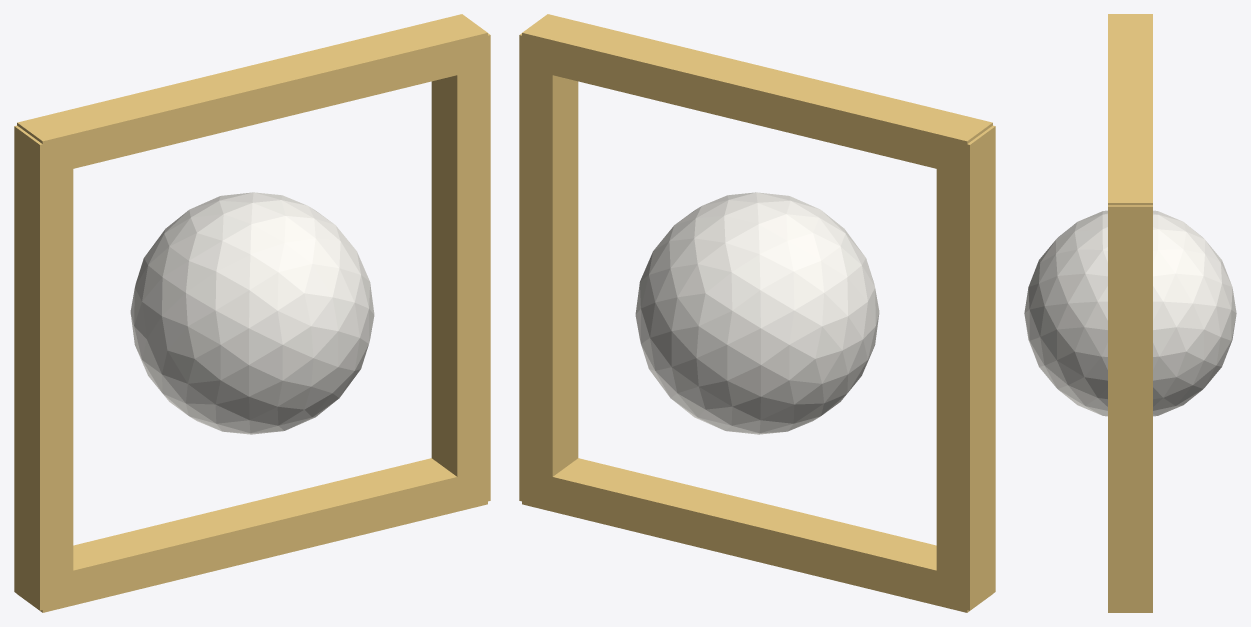
The picture shows the model from 3 angles, left to right: view 1: azimuth 30°, elevation 25°; view 2: azimuth 150°, elevation 25°; view 3: azimuth 270°, elevation 25°; orthographic projection. The views are drawn at different scales.
Visible parts, largest first — view 1: g4, g2, g1, g0, g3; view 2: g4, g2, g1, g3, g0; view 3: g4, g3, g1.
Boxes of the visible parts, <box> form: g4: <box>130,192,374,434</box>; g2: <box>14,125,73,610</box>; g1: <box>17,14,487,175</box>; g0: <box>19,458,487,612</box>; g3: <box>431,33,490,505</box>; g4: <box>635,192,879,434</box>; g2: <box>936,125,995,610</box>; g1: <box>522,14,992,176</box>; g3: <box>519,33,578,507</box>; g0: <box>522,458,990,612</box>; g4: <box>1024,210,1236,416</box>; g3: <box>1108,205,1152,611</box>; g1: <box>1108,14,1152,205</box>.
Bounding box in the file's own units: 1.62 × 1.62 × 0.76.
